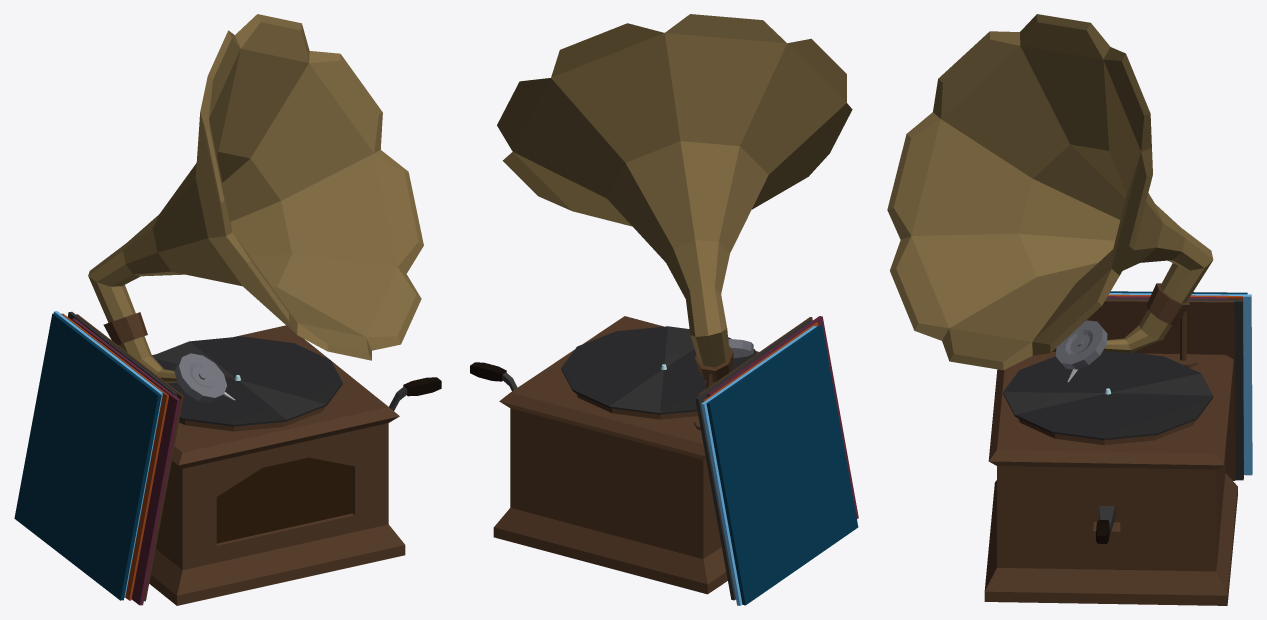
The model's file is Vitrola.glb.
3 renders of one model, left to right at view 1: azimuth 30°, elevation 25°; view 2: azimuth 150°, elevation 25°; view 3: azimuth 270°, elevation 25°, orthographic. The views are drawn at different scales.
Parts seen in each view (by area): view 1: Vitrola; view 2: Vitrola; view 3: Vitrola.
Boxes of the visible parts, x1,y1,x2,y2 form: Vitrola: (14,14,441,605); Vitrola: (470,14,858,605); Vitrola: (887,14,1252,605).
Size of what is drawn, in the model's own units: 0.9859 by 1.36 by 0.872.
Materials: 1 (1 with a texture image).
